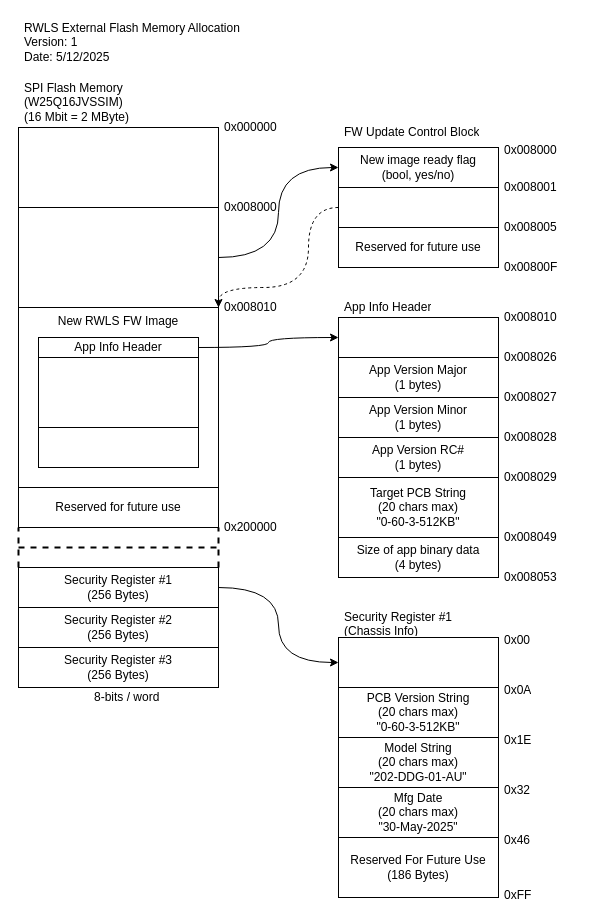
Some shapes in this 595 by 922 pixel diagram are drawn without their labels. Each missing label, with the centre of its shape:
App binary data (variable length): (x=118, y=392)
App Checksum (SHA-256, 32 Bytes): (x=118, y=447)
Calibration & Configuration Data (32,768 bytes): (x=118, y=167)
FW image flash addr (4 bytes): (x=418, y=207)
FW Update Control Block (16 bytes max): (x=118, y=257)
RWLS App Signature (16 bytes): (x=418, y=337)
Serial Number String (10 chars) "1H12345678": (x=418, y=662)
